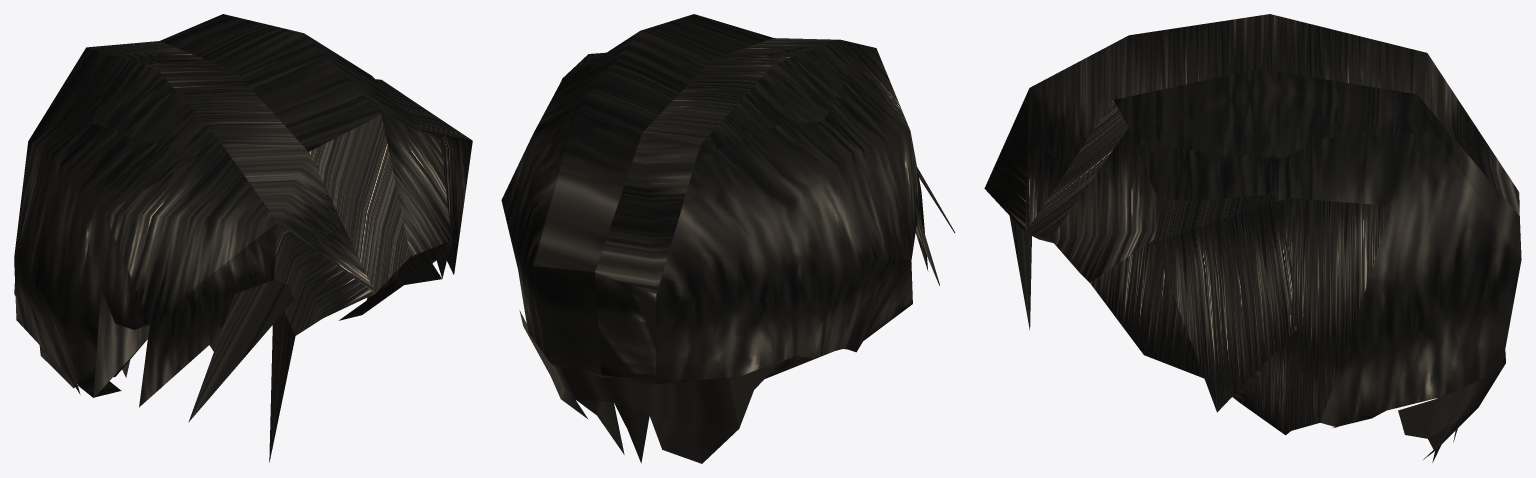
The model's file is hair woman 5.FBX.
3 renders of one model, left to right at view 1: azimuth 30°, elevation 25°; view 2: azimuth 150°, elevation 25°; view 3: azimuth 270°, elevation 25°, orthographic. The views are drawn at different scales.
Visible parts, largest first — view 1: hair woman 5; view 2: hair woman 5; view 3: hair woman 5.
Boxes of the visible parts, x1,y1,x2,y2 form: hair woman 5: (14, 14, 472, 462); hair woman 5: (501, 14, 955, 463); hair woman 5: (984, 14, 1521, 462).
Size of the model in its own units: 44.94 by 42.62 by 51.01.
